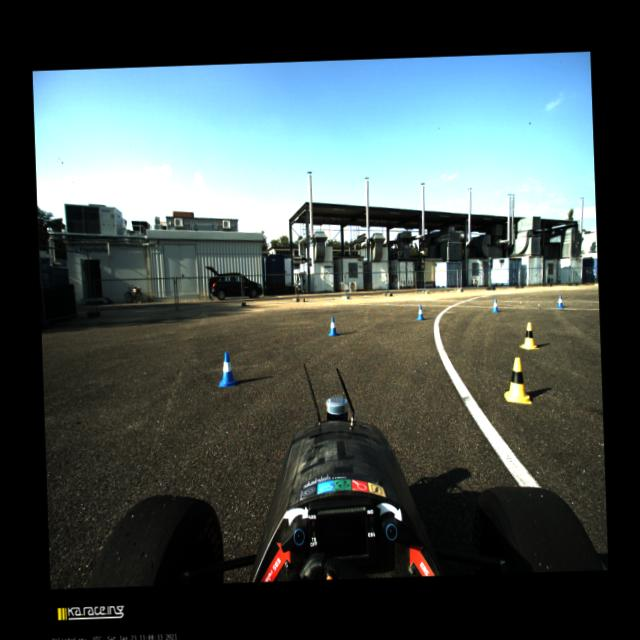blue_cone: (217, 351, 238, 387), (327, 316, 338, 336), (415, 304, 424, 320), (556, 294, 564, 308), (491, 298, 498, 312)
yellow_cone: (502, 356, 531, 404), (518, 321, 538, 349)
